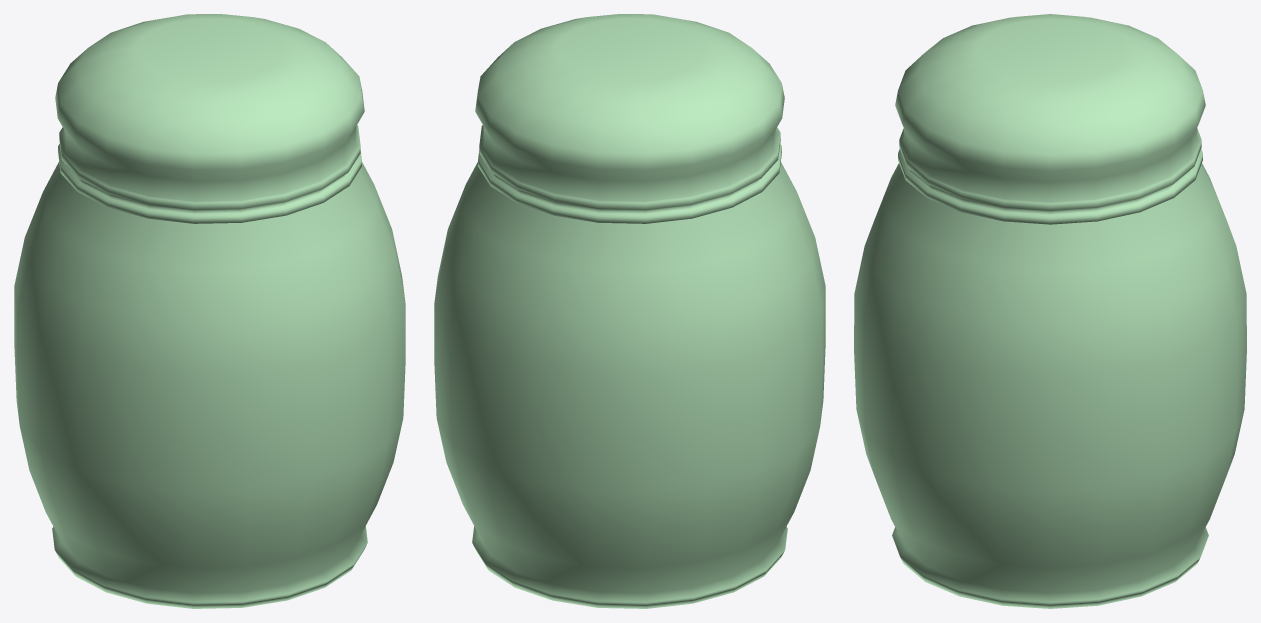
File: Shaker.fbx
3 renders of one model, left to right at view 1: azimuth 30°, elevation 25°; view 2: azimuth 150°, elevation 25°; view 3: azimuth 270°, elevation 25°, orthographic.
Parts seen in each view (by area): view 1: SHAKER; view 2: SHAKER; view 3: SHAKER.
Boxes of the visible parts, <box> form: SHAKER: <box>14,14,405,608</box>; SHAKER: <box>434,14,825,608</box>; SHAKER: <box>854,14,1246,608</box>.
Bounding box in the file's own units: 0.0735 × 0.1018 × 0.0735.
